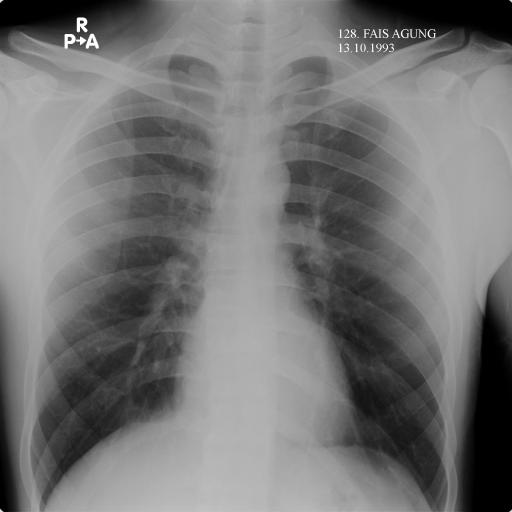normal: (10, 24, 464, 508)
